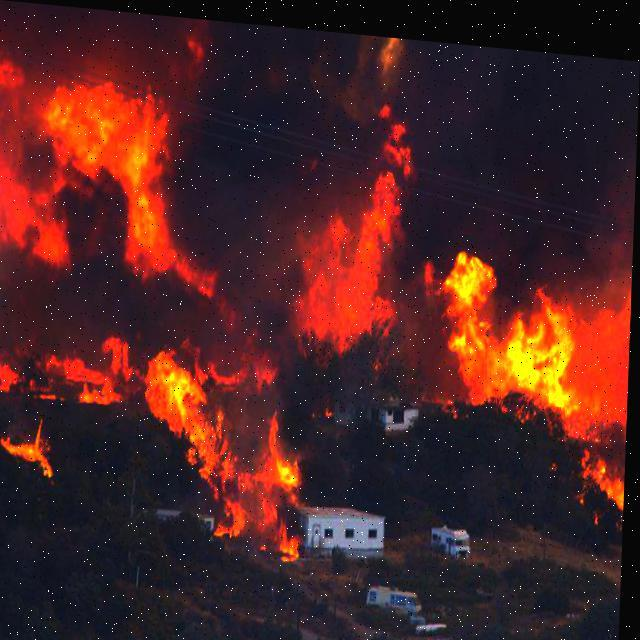Fire: (0, 70, 404, 550), (441, 227, 633, 498)
